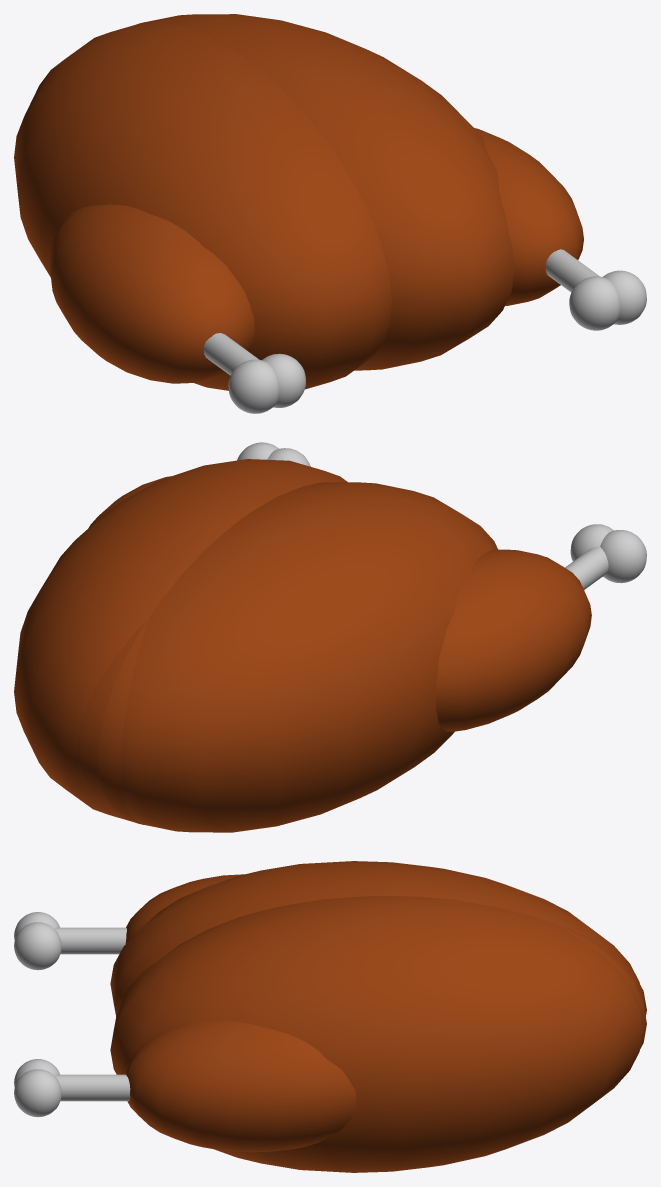
Rendered from chickenPrefab.fbx.
3 renders of one model, top to bottom at view 1: azimuth 30°, elevation 25°; view 2: azimuth 150°, elevation 25°; view 3: azimuth 270°, elevation 25°, orthographic. The views are drawn at different scales.
Visible parts, largest first — view 1: pSphere10; view 2: pSphere10; view 3: pSphere10.
Boxes of the visible parts, x1,y1,x2,y2 form: pSphere10: (14, 14, 646, 413); pSphere10: (14, 442, 646, 832); pSphere10: (14, 861, 646, 1172).
Bounding box in the file's own units: 5.68 × 3.19 × 7.43.
